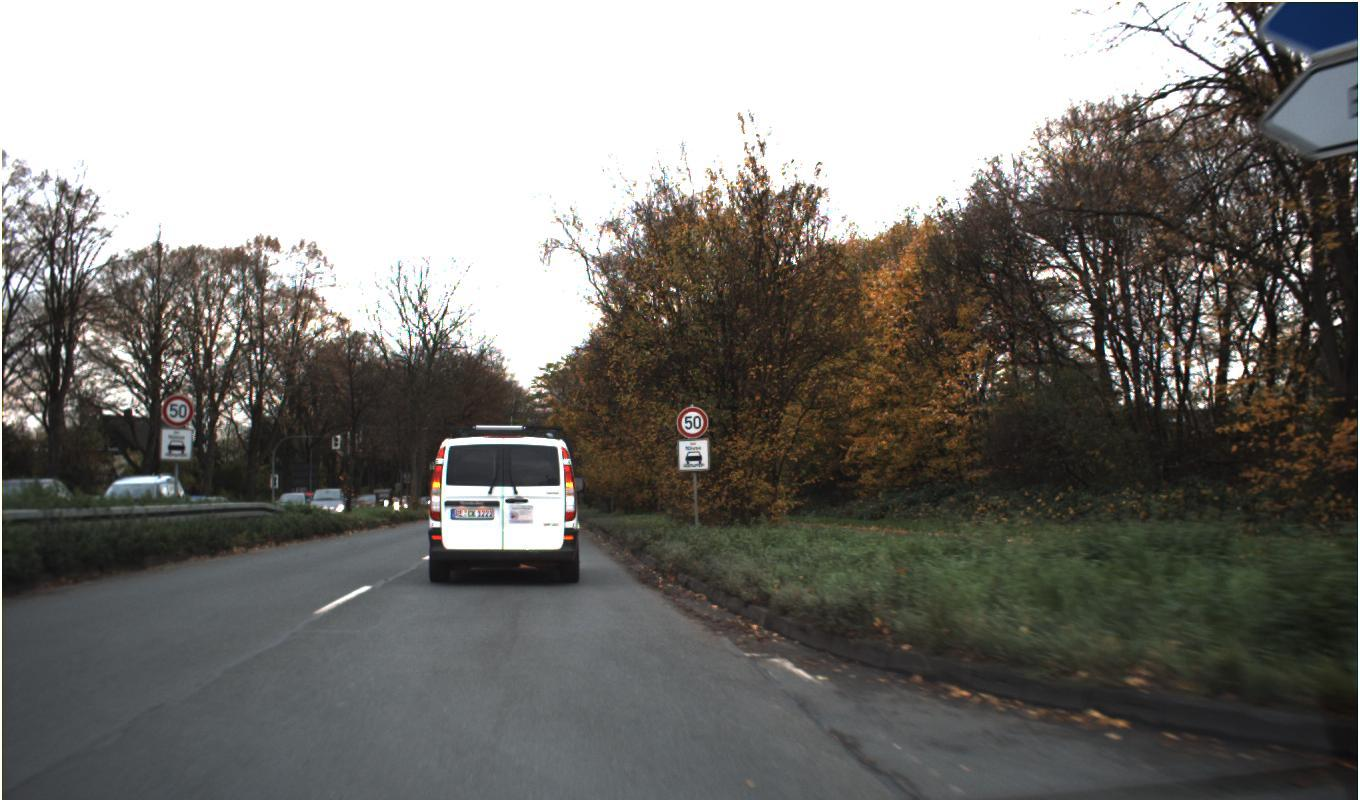speed limit 50 prohibitory: (675, 405, 709, 439), (161, 393, 194, 428)
